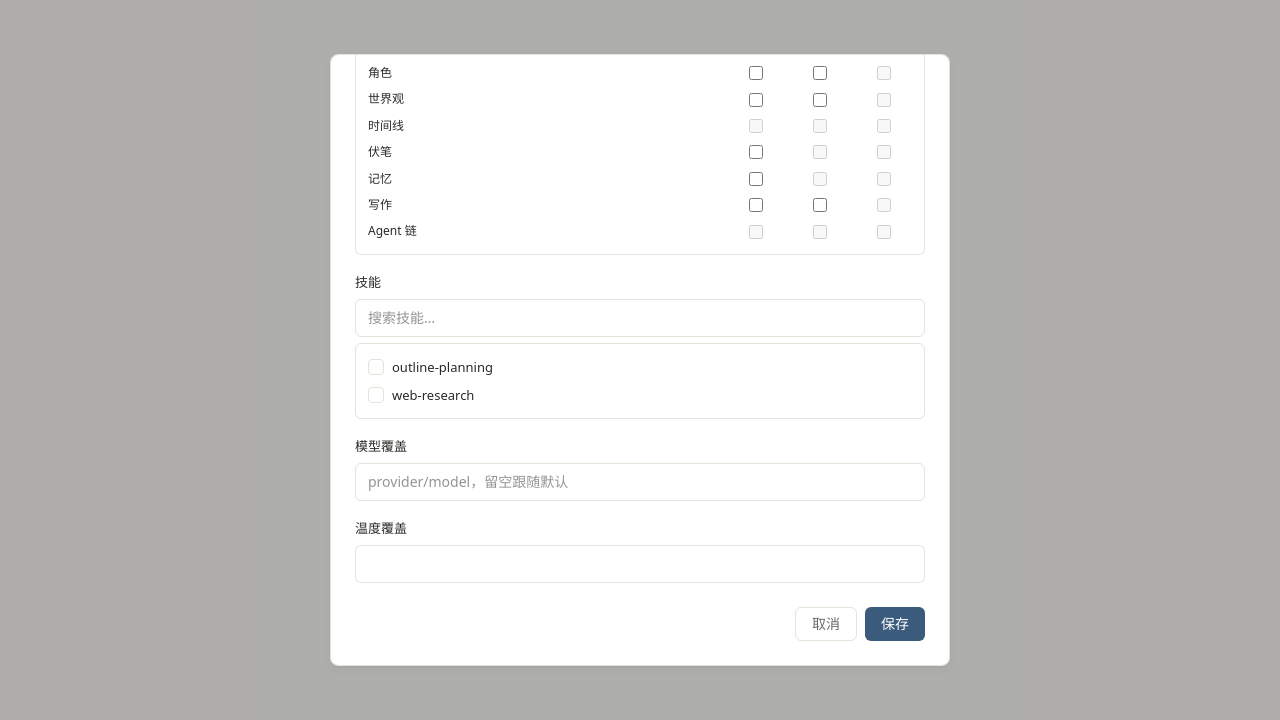
Test case: AgentEditDialog — 创建模式（非工具契约迁移【G】） › 名称必填：空名称 → 内联错误 + 不提交
(page scrolled)
Click the button with test id "agent-dialog-save" at [895, 624], box [865, 607, 925, 641]
(page scrolled)
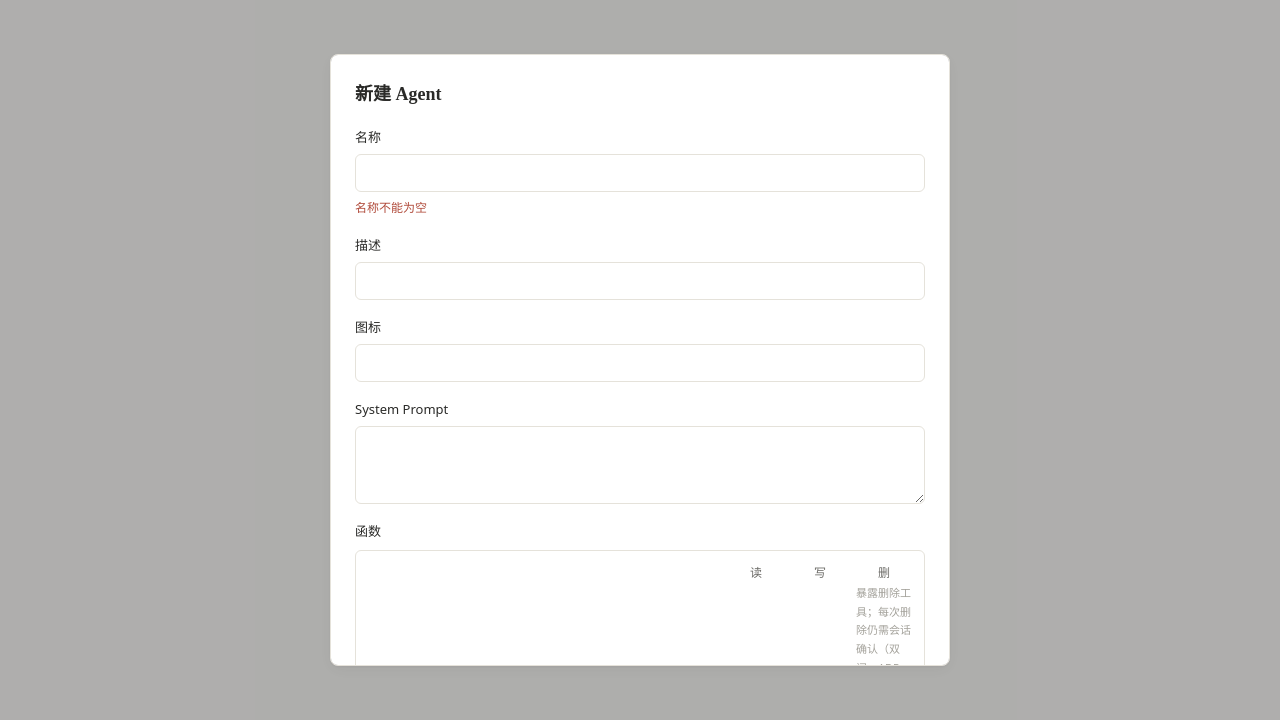
Expected: the text "名称不能为空" is shown, [355, 199, 427, 216]
